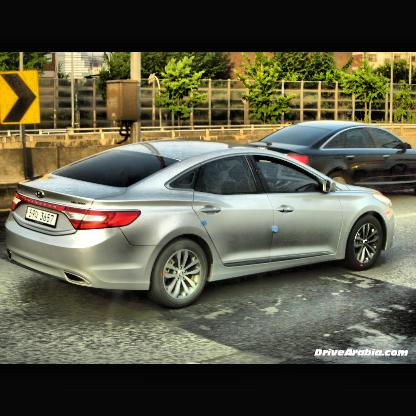Hyundai Azera Sedan 2012: (5, 140, 395, 309)
